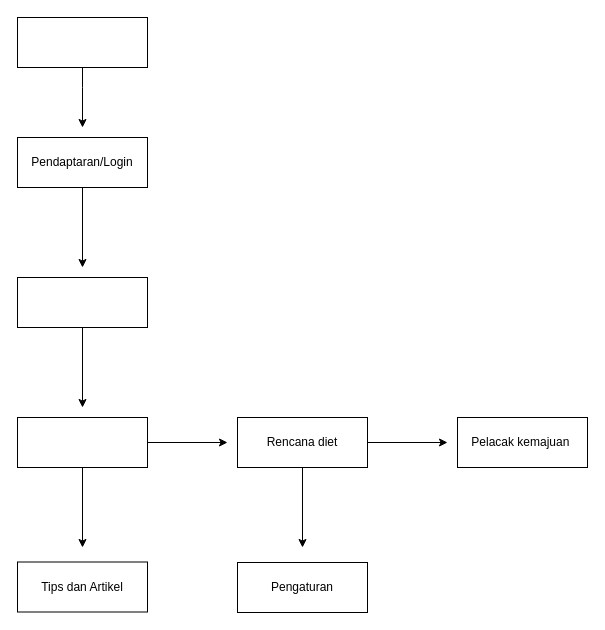
The diagram is 605 pixels wide and 630 high, and some of its shapes have lost their labels. Here are the shapes that lost their labels. From the top down, the box of each, then its label:
(16, 16, 148, 68): Halaman utama
(16, 276, 148, 328): Propil pengguna
(16, 416, 148, 468): Pencatatan makanan
